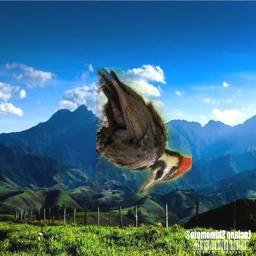Woodpecker: (96, 67, 192, 195)
